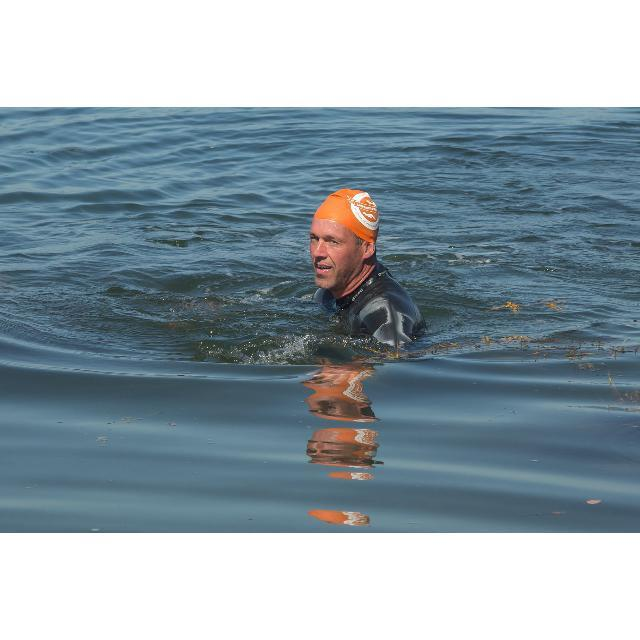human: (305, 171, 434, 363)
